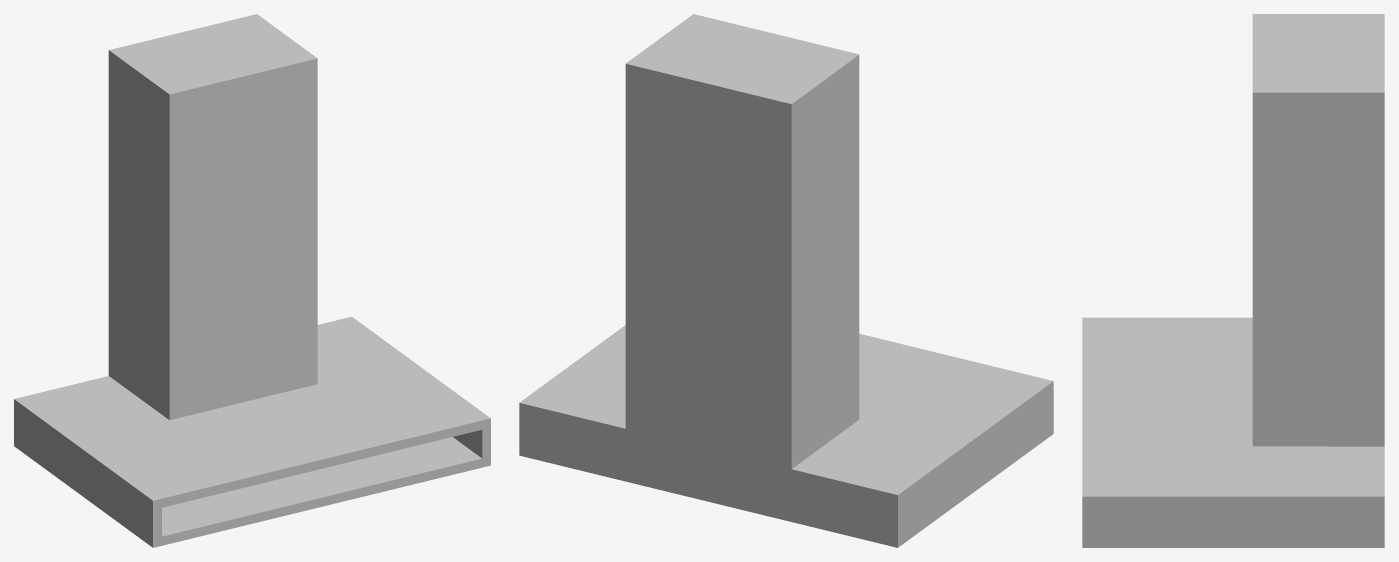
The model's file is Hood2_C2_01.fbx.
The picture shows the model from 3 angles, left to right: view 1: azimuth 30°, elevation 25°; view 2: azimuth 150°, elevation 25°; view 3: azimuth 270°, elevation 25°; orthographic projection. The views are drawn at different scales.
Parts seen in each view (by area): view 1: Hood2_C2_01; view 2: Hood2_C2_01; view 3: Hood2_C2_01.
Part boxes in pixels (box(x1,y1,x2,y2)): Hood2_C2_01: box(14, 14, 490, 547); Hood2_C2_01: box(519, 14, 1053, 547); Hood2_C2_01: box(1082, 14, 1384, 547).
Size of the model in its own units: 60 by 63.56 by 42.78.
